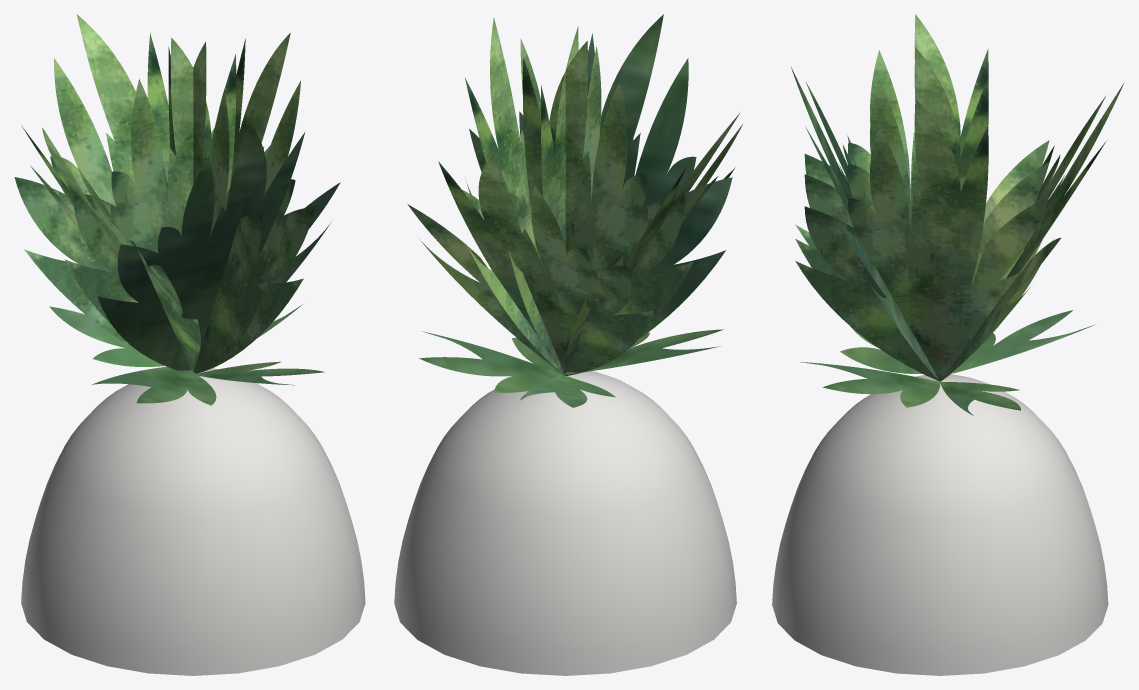
File: piña_ladoa.obj
3 views of the same model, side by side, from view 1: azimuth 30°, elevation 25°; view 2: azimuth 150°, elevation 25°; view 3: azimuth 270°, elevation 25° (orthographic). The views are drawn at different scales.
Parts seen in each view (by area): view 1: Mesh1 Model, Mesh2 Model, Mesh4 Model, Mesh3 Model, Mesh7 Model, Mesh5 Model, Mesh6 Model, Mesh8 Model, Mesh9 Model; view 2: Mesh1 Model, Mesh4 Model, Mesh3 Model, Mesh2 Model, Mesh7 Model, Mesh5 Model, Mesh6 Model, Mesh10 Model, Mesh8 Model; view 3: Mesh1 Model, Mesh7 Model, Mesh5 Model, Mesh6 Model, Mesh4 Model, Mesh2 Model, Mesh9 Model, Mesh8 Model, Mesh10 Model.
Part boxes in pixels (x1,y1,x2,y2): Mesh1 Model: [21, 368, 365, 675]; Mesh2 Model: [97, 123, 340, 371]; Mesh4 Model: [14, 14, 214, 347]; Mesh3 Model: [64, 38, 269, 324]; Mesh7 Model: [196, 33, 315, 373]; Mesh5 Model: [165, 42, 267, 373]; Mesh6 Model: [21, 125, 216, 405]; Mesh8 Model: [49, 306, 164, 366]; Mesh9 Model: [197, 361, 324, 385]; Mesh1 Model: [394, 371, 736, 675]; Mesh4 Model: [407, 155, 652, 375]; Mesh3 Model: [466, 41, 693, 325]; Mesh2 Model: [519, 14, 732, 339]; Mesh7 Model: [462, 17, 563, 374]; Mesh5 Model: [508, 26, 633, 373]; Mesh6 Model: [563, 112, 742, 375]; Mesh10 Model: [419, 331, 562, 392]; Mesh8 Model: [519, 375, 615, 407]; Mesh1 Model: [772, 374, 1108, 675]; Mesh7 Model: [795, 99, 1053, 381]; Mesh5 Model: [795, 47, 1049, 285]; Mesh6 Model: [795, 14, 1049, 379]; Mesh4 Model: [941, 83, 1123, 380]; Mesh2 Model: [791, 67, 939, 381]; Mesh9 Model: [800, 362, 940, 407]; Mesh8 Model: [952, 310, 1095, 373]; Mesh10 Model: [940, 382, 1020, 415].
Size of the model in its own units: 6.68 by 11.66 by 6.68.
